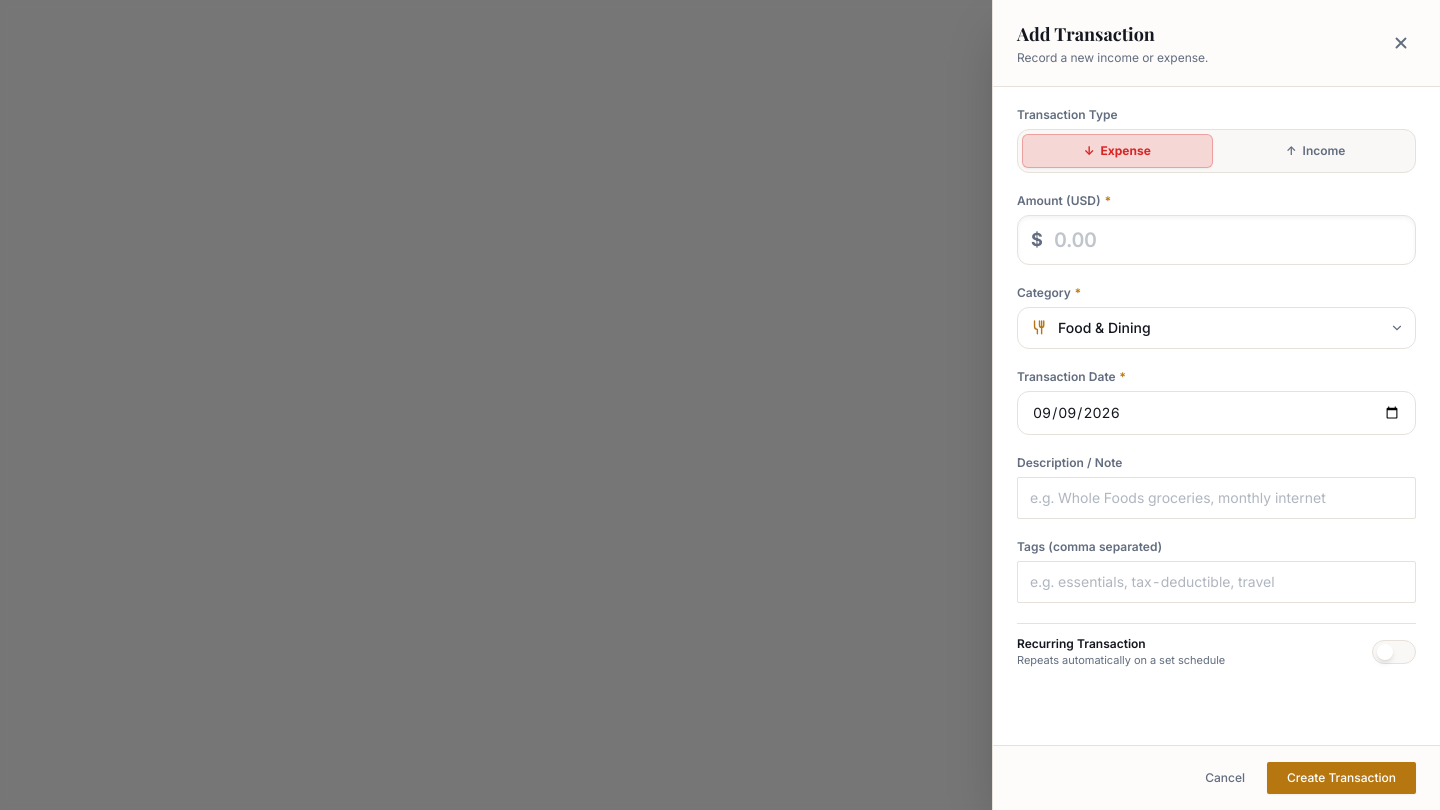
Scenario: TransactionSlideOver Component › validates positive amount on submission
The width and height of the screenshot is (1440, 810).
Click the button "Create Transaction" at (1342, 778), box 1267,762 -> 1416,794
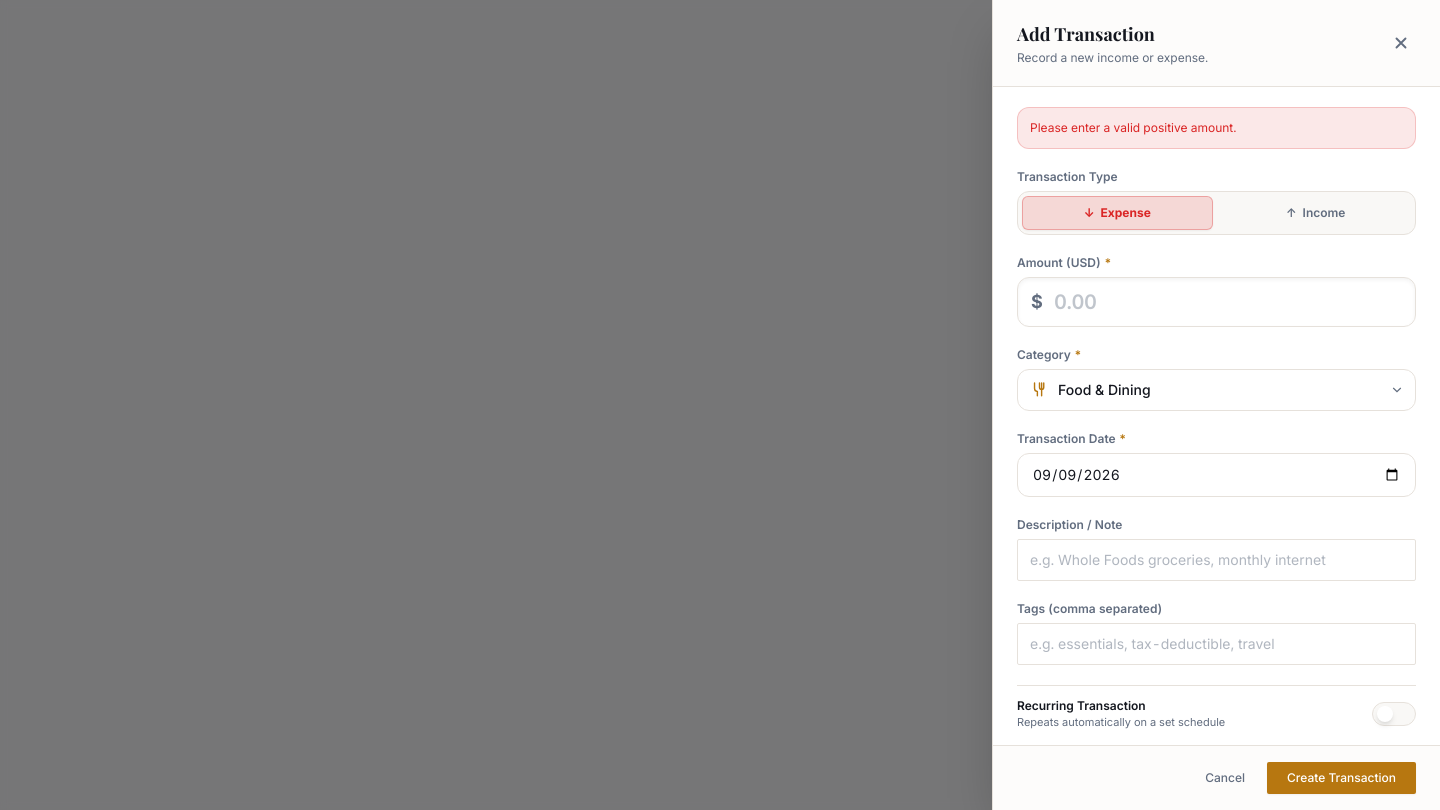
expect the text "Please enter a valid positive amount." is shown: met, box 1017,107 -> 1416,149
